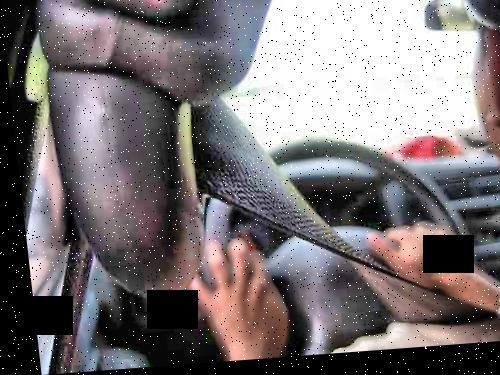seatbelt: (101, 72, 441, 318)
